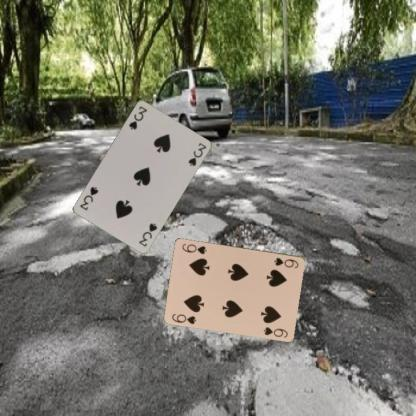3s: (136, 220, 158, 248), (126, 104, 148, 130)
6s: (271, 255, 300, 269), (169, 311, 198, 325)
